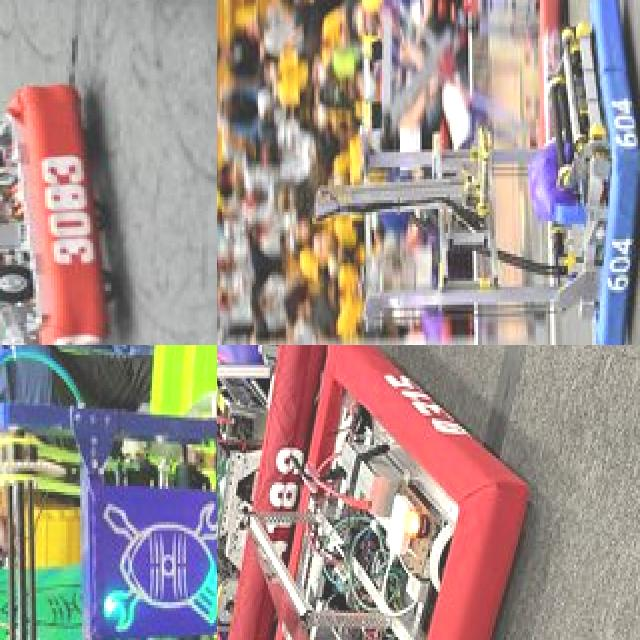FRC-Robots: (301, 0, 640, 345), (229, 345, 535, 640), (0, 345, 217, 640), (0, 49, 124, 345), (217, 345, 326, 640), (432, 0, 568, 204)
